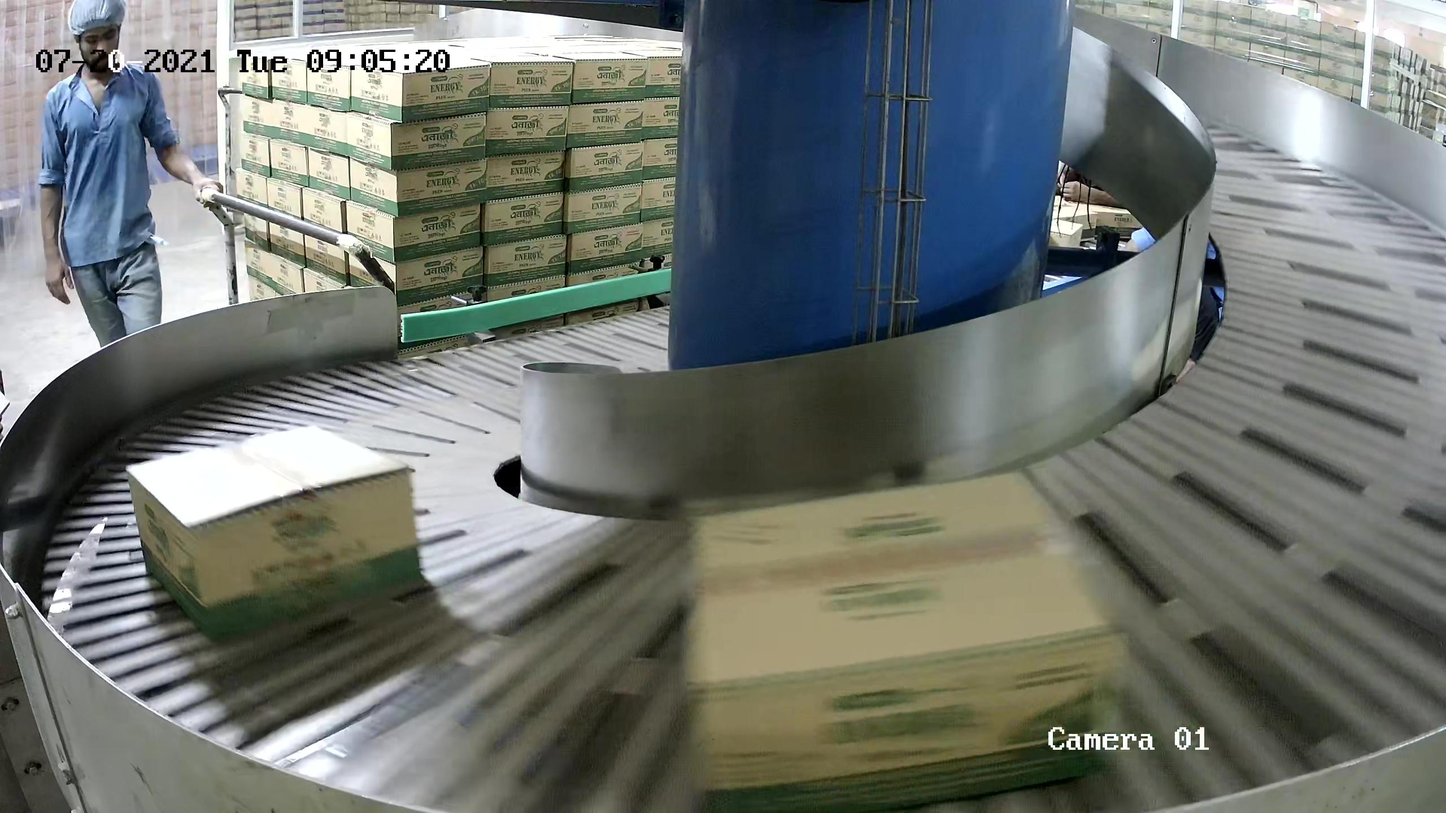Box: (673, 458, 1135, 813), (123, 422, 427, 643)
